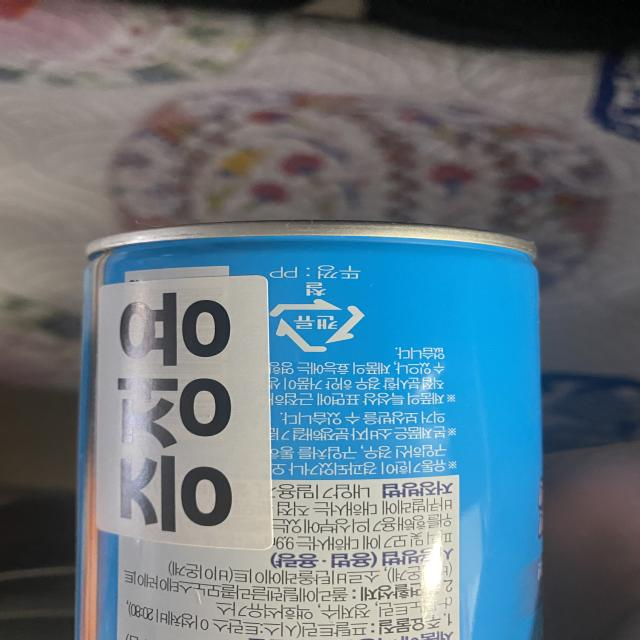Can: (277, 297, 368, 354)
